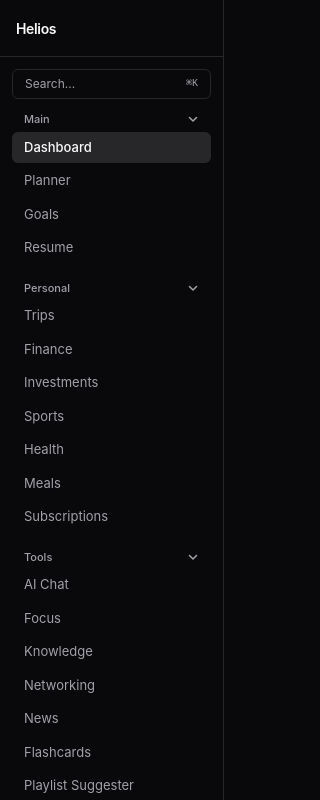
Test: Sidebar collapsible groups › clicking a group label toggles collapse
Expected: the link "Dashboard" is shown, top-left (12, 132), bottom-right (211, 163)
Note: Click Main to collapse
Click the button "Main" at {"x": 112, "y": 119}, box top-left (12, 111), bottom-right (211, 128)
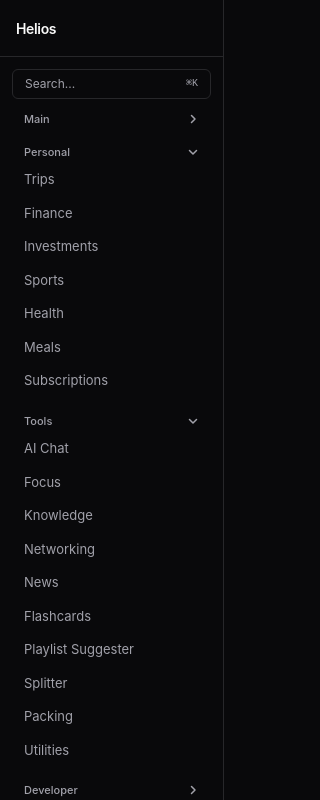
Now the link "Dashboard" is gone
Note: Click Main again to expand
Click the button "Main" at {"x": 112, "y": 119}, box top-left (12, 111), bottom-right (211, 128)
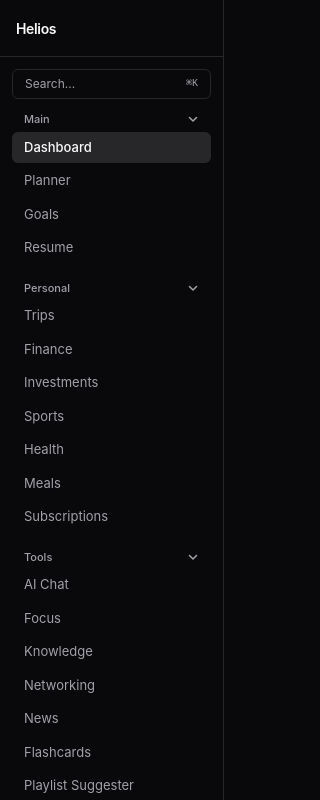
Now the link "Dashboard" is shown, box top-left (12, 132), bottom-right (211, 163)
